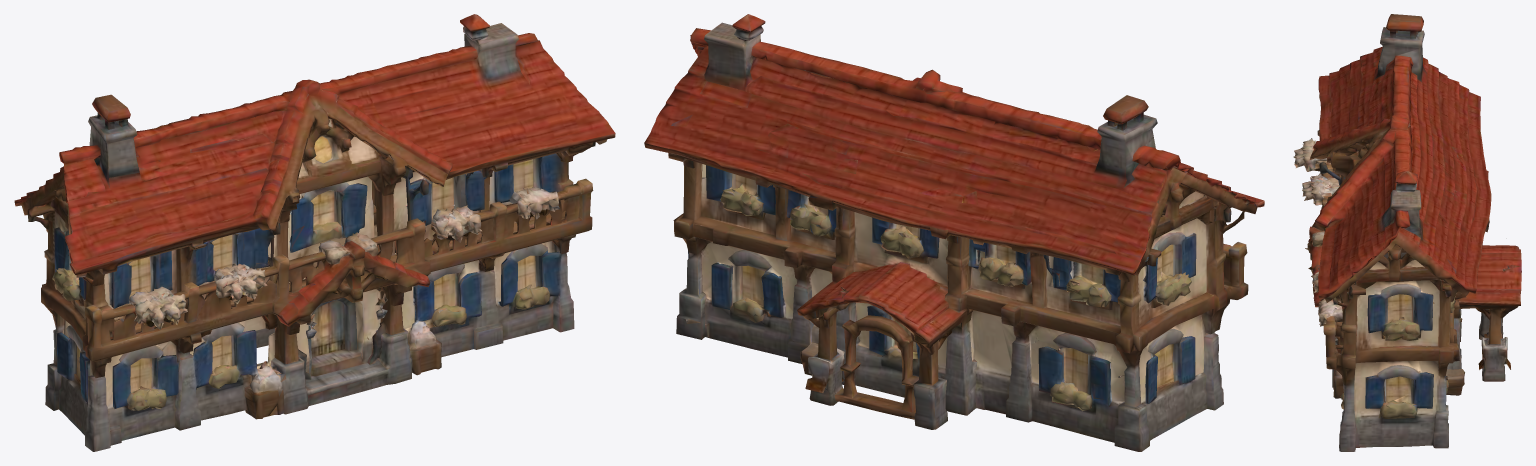
3 renders of one model, left to right at view 1: azimuth 30°, elevation 25°; view 2: azimuth 150°, elevation 25°; view 3: azimuth 270°, elevation 25°, orthographic. The views are drawn at different scales.
Parts seen in each view (by area): view 1: alpine__skyscraper_1__native_mobile; view 2: alpine__skyscraper_1__native_mobile; view 3: alpine__skyscraper_1__native_mobile.
Part boxes in pixels (<box>): alpine__skyscraper_1__native_mobile: <box>14,14,615,451</box>; alpine__skyscraper_1__native_mobile: <box>644,14,1264,451</box>; alpine__skyscraper_1__native_mobile: <box>1293,14,1521,451</box>.
Bounding box in the file's own units: 1 × 0.5508 × 0.4314.
1 material, 1 textured.
